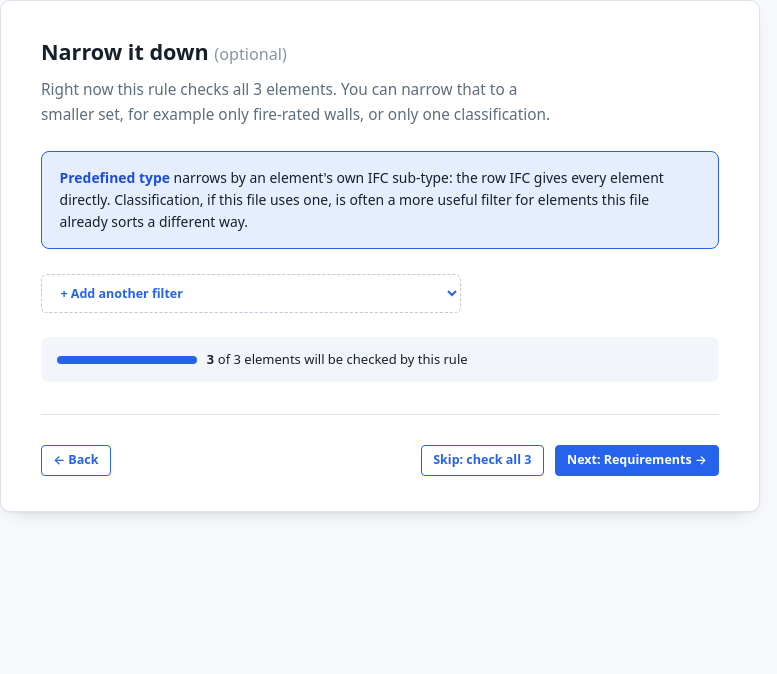
Test: WizardNarrowStep › removing the only filter goes back to checking everything
Select "Classification" in the dropdown named "Add another filter": (251, 294) x1=41 y1=274 x2=461 y2=313
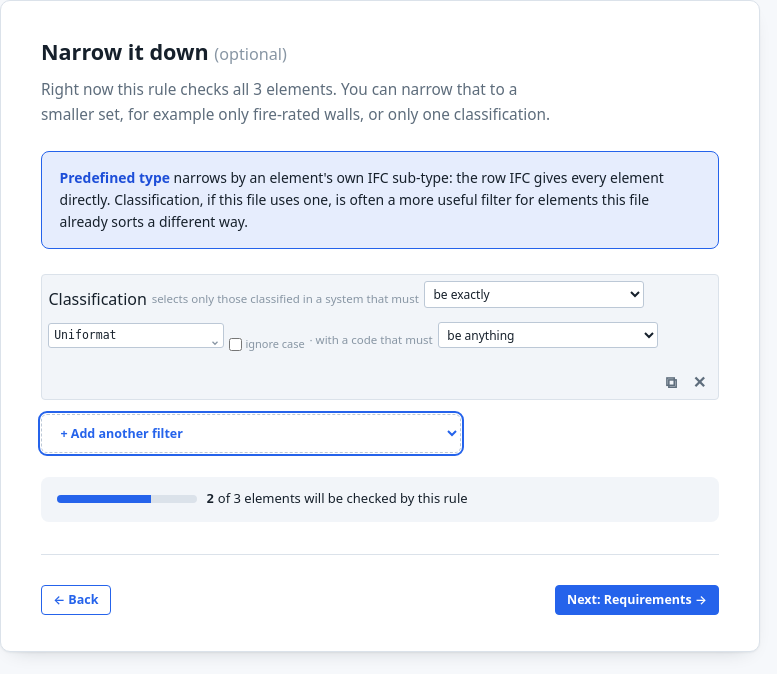
Click the button named "Remove the classification this rule selects by": click(699, 382) x1=687 y1=371 x2=712 y2=392
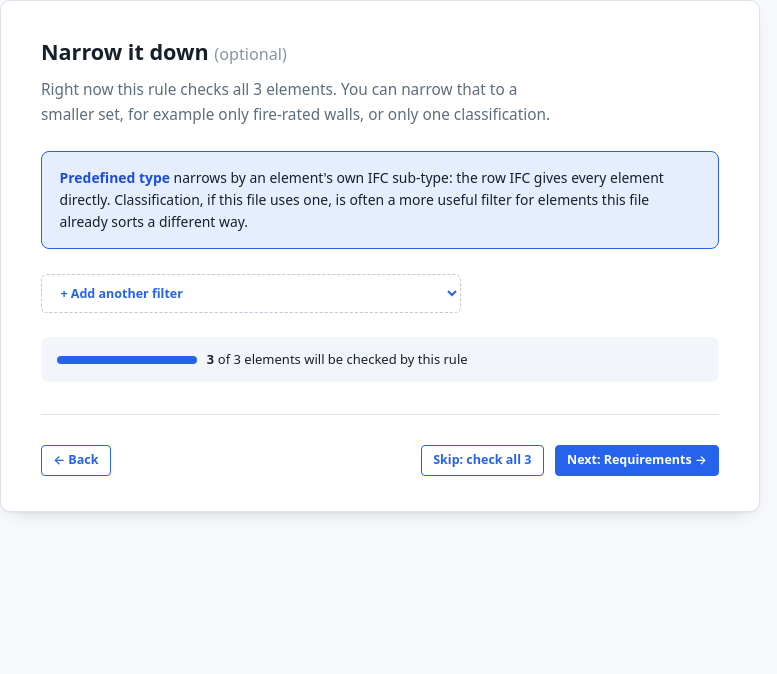
expect the button "Skip: check all 3" is shown: met, box x1=421 y1=446 x2=544 y2=476
